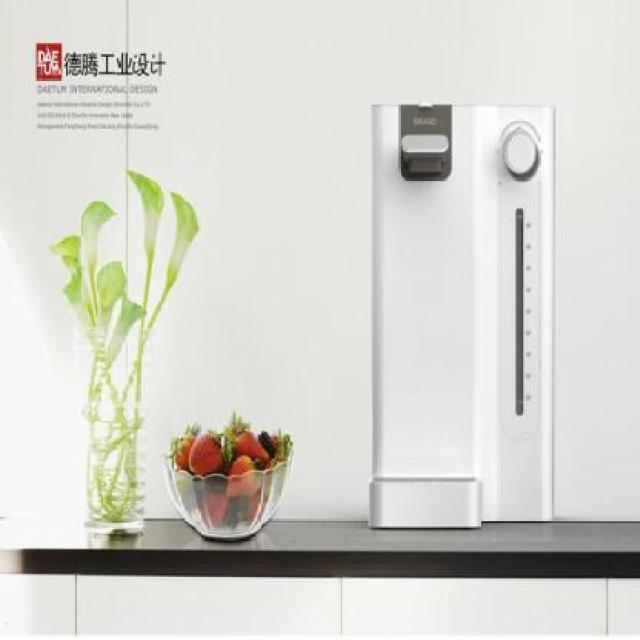cooler: (368, 100, 558, 535)
